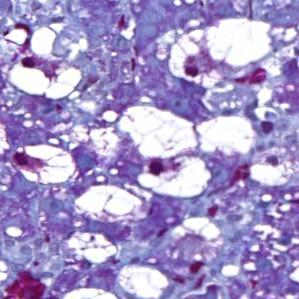ballooning: (168, 17, 275, 87), (118, 103, 200, 161), (4, 51, 83, 103), (11, 141, 77, 187)
